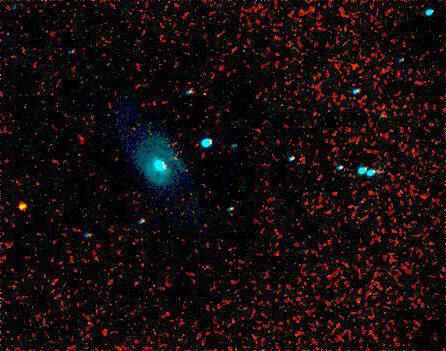star: (9, 191, 39, 221)
